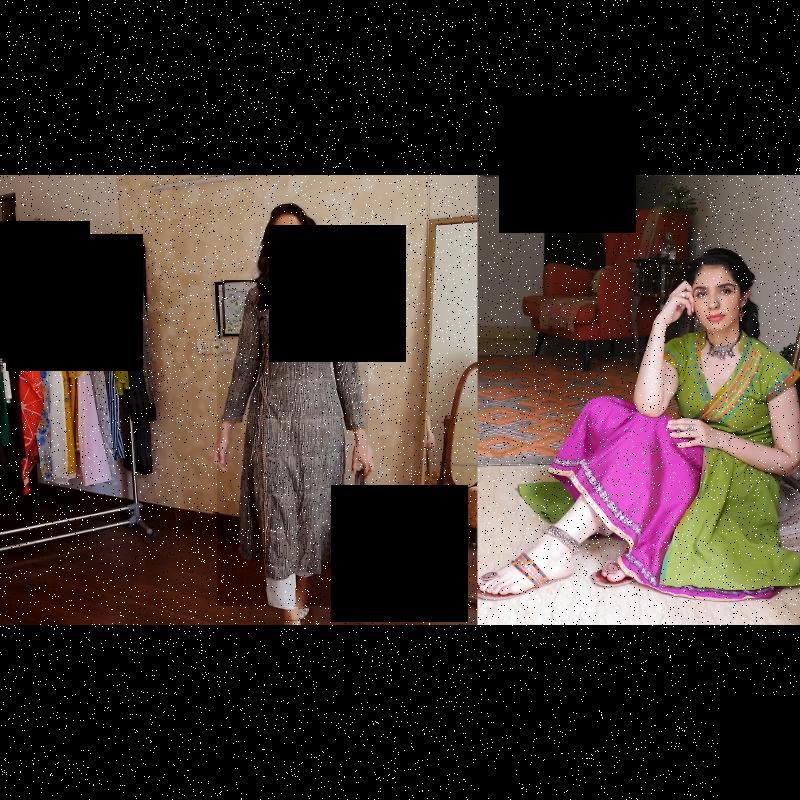Churidaar: (217, 282, 367, 606)
